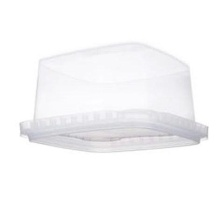plastic_box: (11, 37, 213, 159)
